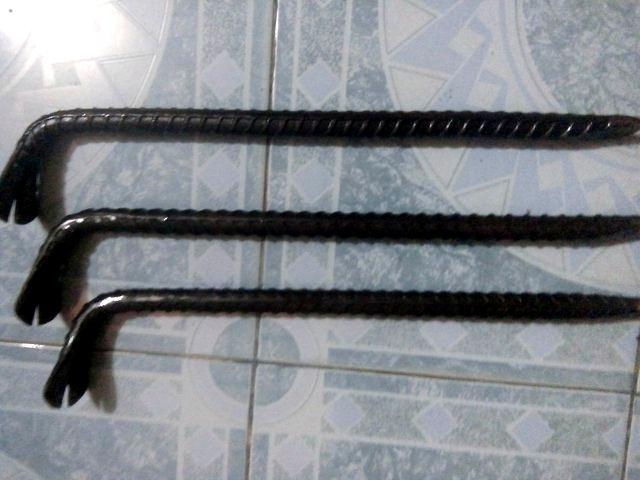crow bar: (0, 108, 638, 228), (10, 208, 640, 326), (42, 287, 640, 403)
